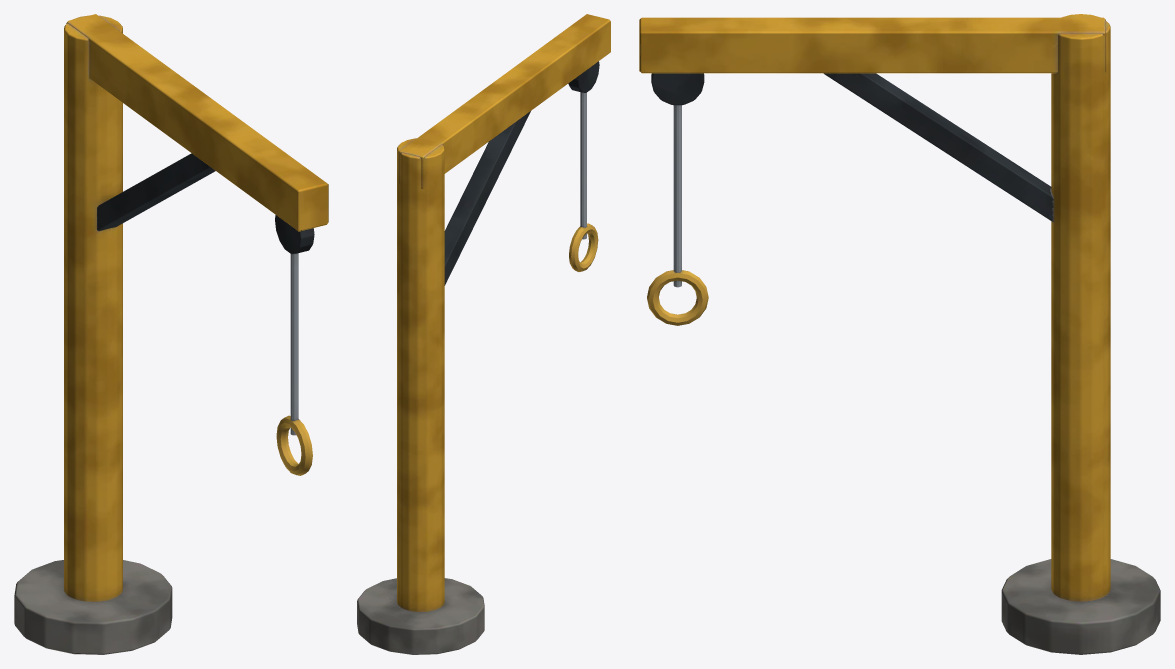
File: crane_hook_jib.glb
The picture shows the model from 3 angles, left to right: view 1: azimuth 30°, elevation 25°; view 2: azimuth 150°, elevation 25°; view 3: azimuth 270°, elevation 25°; orthographic projection. The views are drawn at different scales.
Parts seen in each view (by area): view 1: CraneHookJib; view 2: CraneHookJib; view 3: CraneHookJib.
Part boxes in pixels (x1,y1,x2,y2): CraneHookJib: (14,14,328,654); CraneHookJib: (357,14,610,654); CraneHookJib: (639,14,1160,654).
Size of the model in its own units: 0.9543 by 3.96 by 3.13.
Materials: 1 (1 with a texture image).
